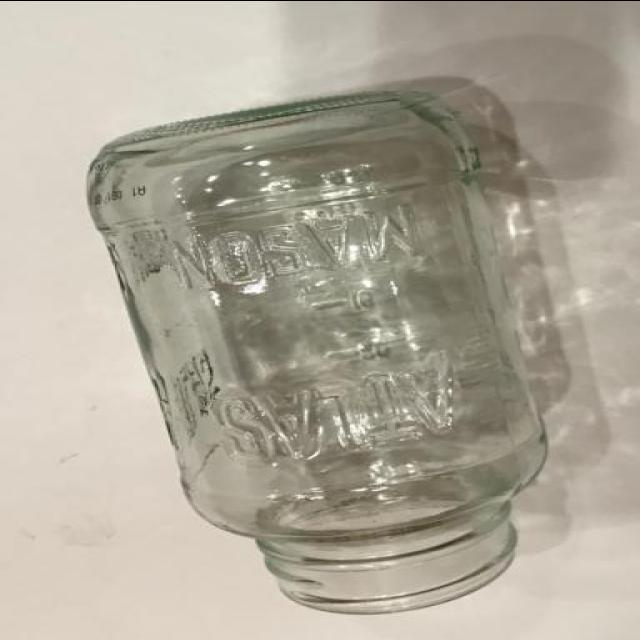glass: (86, 88, 544, 614)
